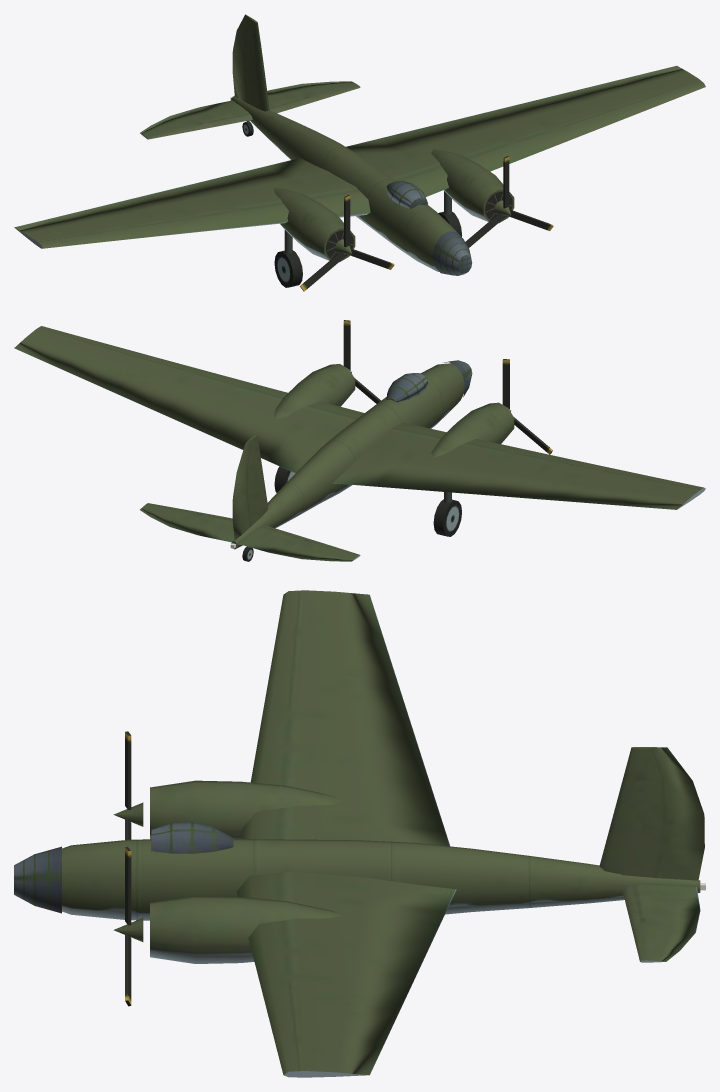
File: bomber.glb
The picture shows the model from 3 angles, top to bottom: view 1: azimuth 30°, elevation 25°; view 2: azimuth 150°, elevation 25°; view 3: azimuth 270°, elevation 25°; orthographic projection. The views are drawn at different scales.
Visible parts, largest first — view 1: fuselage, prop_right_pales, prop_left_pales, wheel_right; view 2: fuselage, wheel_right, prop_right_pales, prop_left_pales; view 3: fuselage, prop_left_pales.
Part boxes in pixels (x1=…): fuselage: x1=14, y1=14, x2=705, y2=275; prop_right_pales: x1=300, y1=194, x2=394, y2=291; prop_left_pales: x1=465, y1=156, x2=553, y2=247; wheel_right: x1=274, y1=250, x2=302, y2=287; fuselage: x1=14, y1=326, x2=705, y2=561; wheel_right: x1=433, y1=499, x2=461, y2=536; prop_right_pales: x1=502, y1=359, x2=552, y2=454; prop_left_pales: x1=343, y1=320, x2=380, y2=403; fuselage: x1=14, y1=590, x2=705, y2=1077; prop_left_pales: x1=125, y1=846, x2=131, y2=1006.
Bounding box in the file's own units: 20.33 × 4.73 × 12.37.
Materials: 5 (5 with a texture image).
